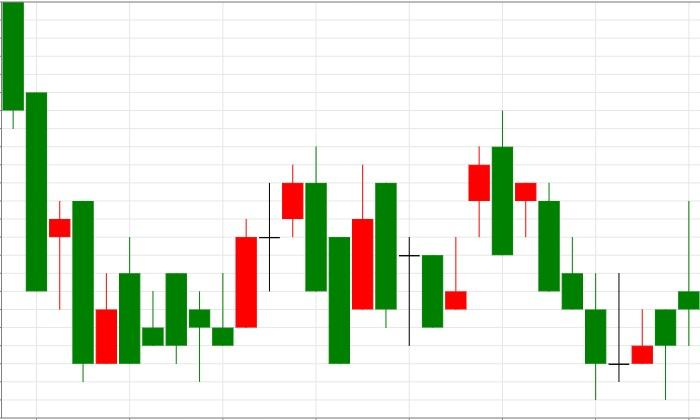morning_star_rise: (515, 183, 653, 400)
